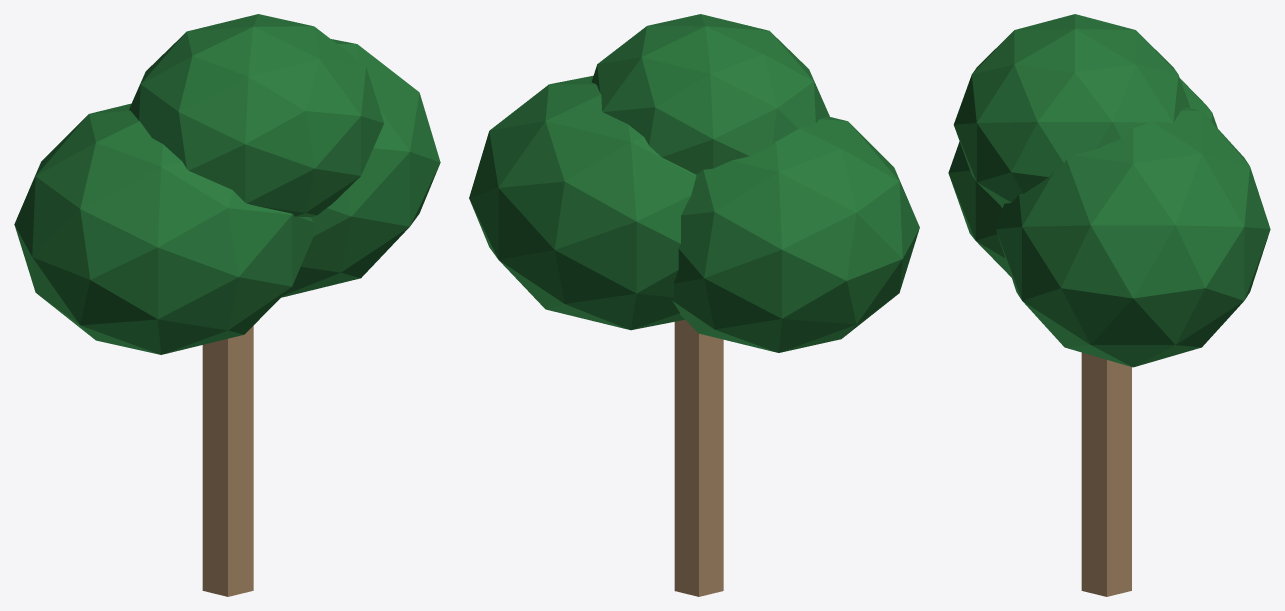
The model's file is forest-lod-medium-deciduous.glb.
3 views of the same model, side by side, from view 1: azimuth 30°, elevation 25°; view 2: azimuth 150°, elevation 25°; view 3: azimuth 270°, elevation 25° (orthographic). The views are drawn at different scales.
Visible parts, largest first — view 1: crown, trunk; view 2: crown, trunk; view 3: crown, trunk.
Boxes of the visible parts, x1,y1,x2,y2 form: crown: [14, 14, 440, 354]; trunk: [202, 326, 253, 596]; crown: [469, 14, 919, 352]; trunk: [674, 320, 723, 596]; crown: [948, 14, 1270, 367]; trunk: [1081, 352, 1131, 596].
Size of the model in its own units: 1.79 by 2.34 by 1.22.
